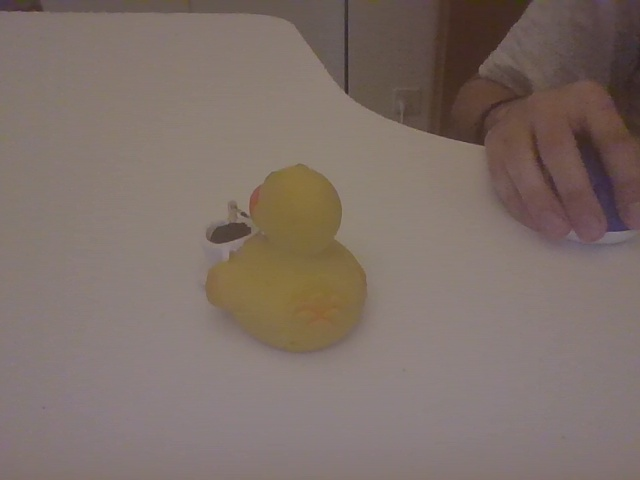duck: (189, 147, 373, 359)
